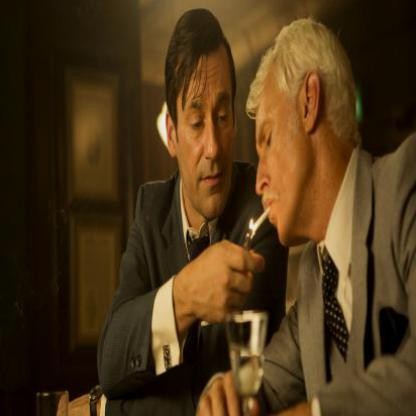cigarette: (249, 206, 274, 240)
person: (247, 36, 415, 415), (110, 5, 249, 415)
